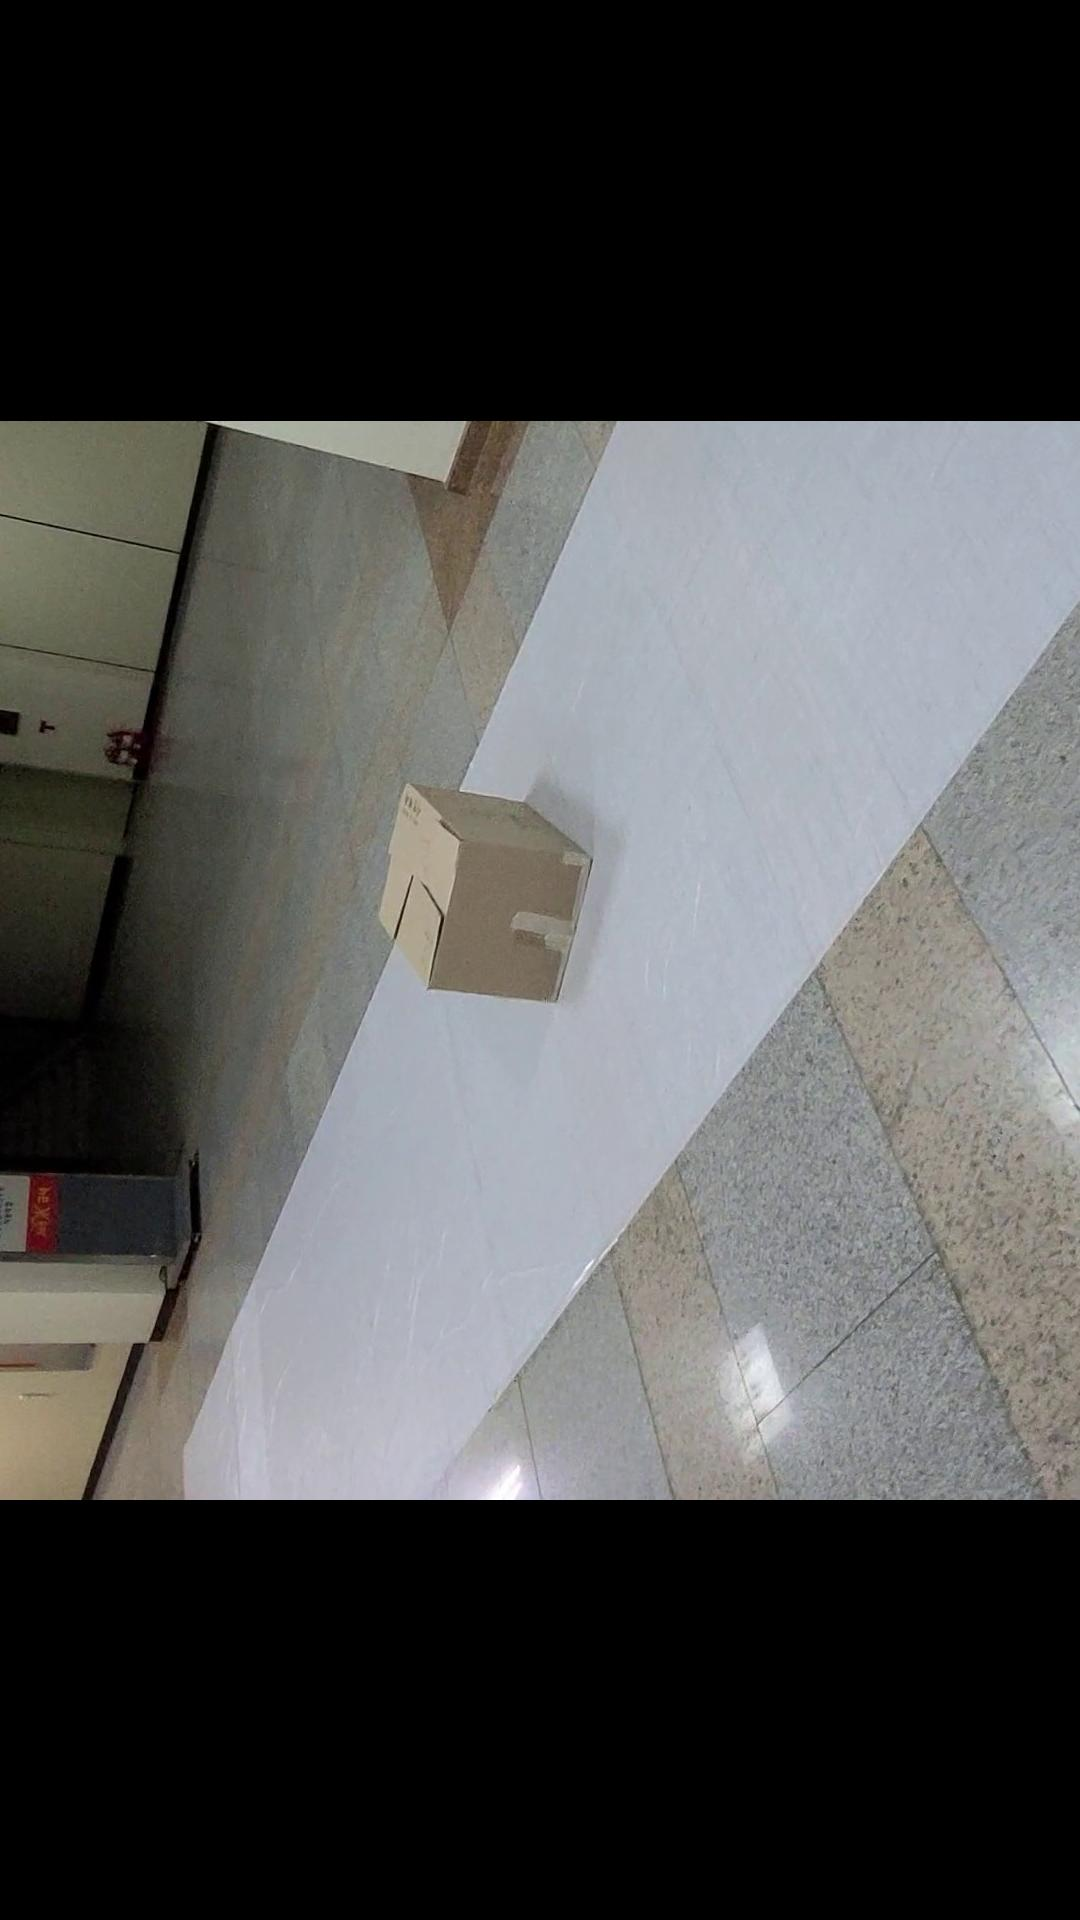Box: (360, 748, 607, 1009)
